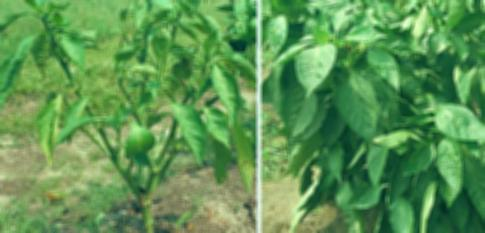Tomato leaf bacterial spot: (328, 64, 381, 138), (445, 136, 485, 229), (294, 39, 338, 100), (172, 101, 212, 168), (224, 111, 256, 193), (33, 90, 63, 172), (211, 54, 245, 125), (433, 102, 485, 146), (365, 47, 404, 99), (363, 134, 392, 191), (438, 137, 463, 196), (126, 122, 157, 169), (349, 179, 389, 214), (57, 30, 90, 70), (388, 191, 416, 233), (454, 63, 480, 103), (148, 0, 179, 14)
